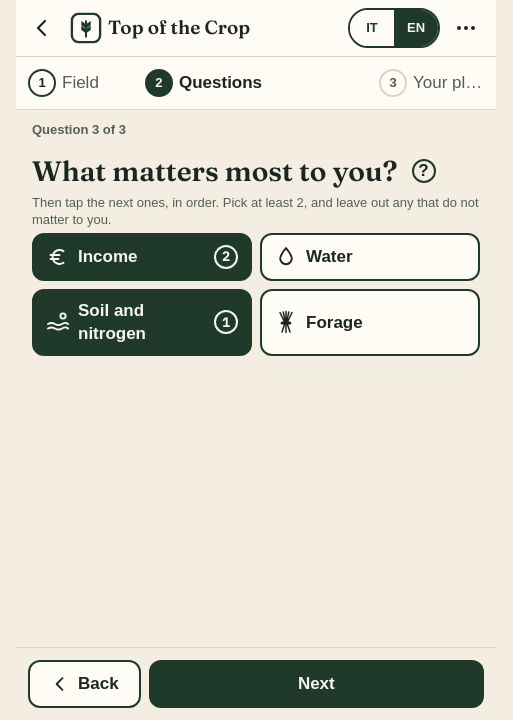
Test: Options › the chips on Questions show each priority's place, a third joins the end, and the plan follows
This screenshot has width=513, height=720.
Expected: the text with test id "question-step" reads "Question 3 of 3", [32,122,126,137]
Click the checkbox labelled "Forage". click: (370, 322)
box: [260,289,480,356]
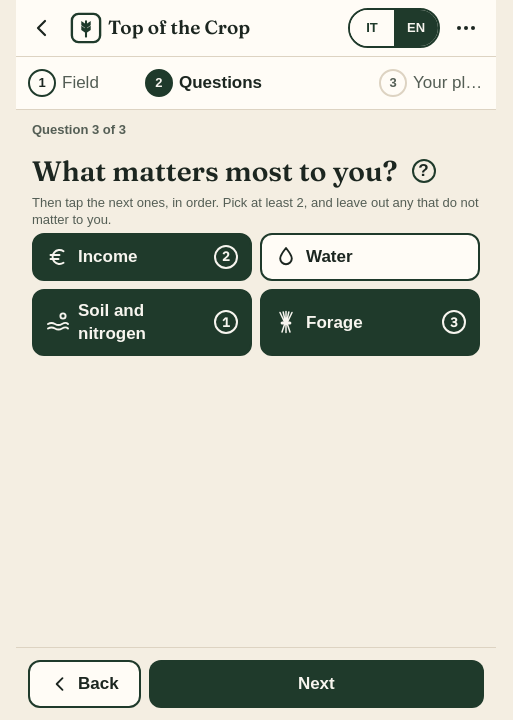
Now the checkbox labelled "Forage" shows "3", box [260,289,480,356]
Click the button "Next". click: (316, 684)
box: [149,660,484,708]
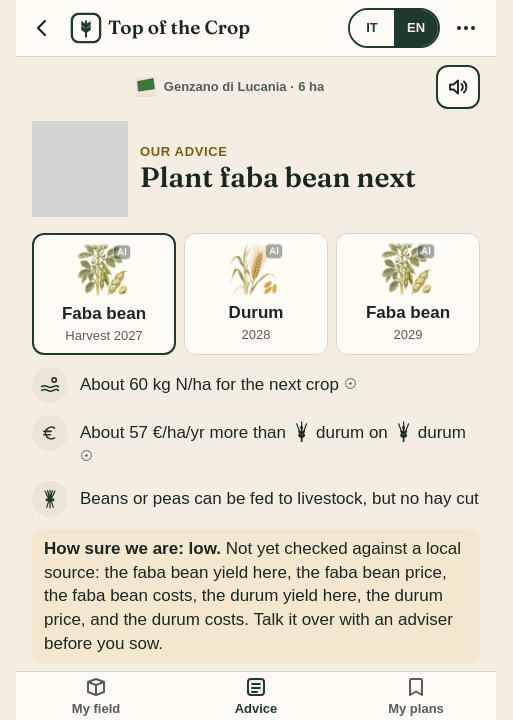
Now the heading with test id "rec-headline" reads "Plant faba bean next", box [140,160,416,194]
